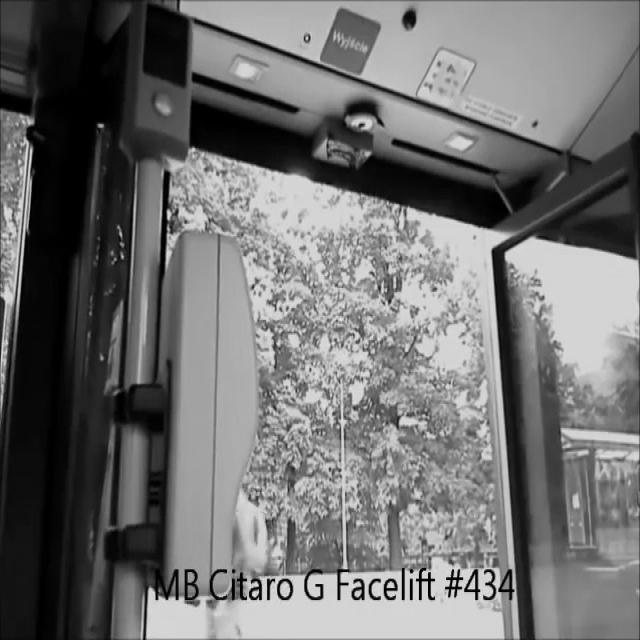bus-door: (167, 82, 640, 640)
